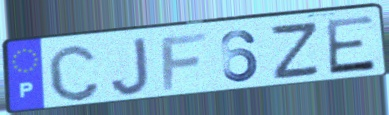6: (219, 28, 261, 85)
C: (45, 42, 103, 104)
E: (323, 13, 378, 77)
F: (159, 30, 210, 93)
J: (109, 35, 152, 98)
Z: (270, 19, 322, 82)
